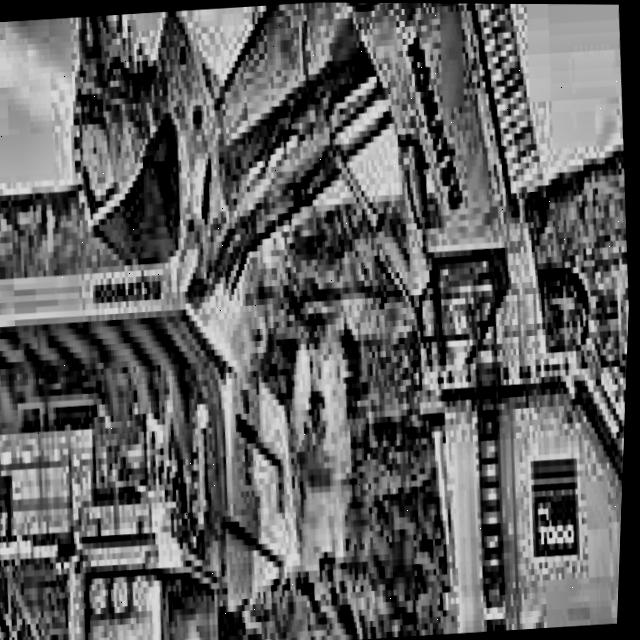dump_truck: (0, 221, 333, 640)
excavator: (62, 0, 640, 640)
